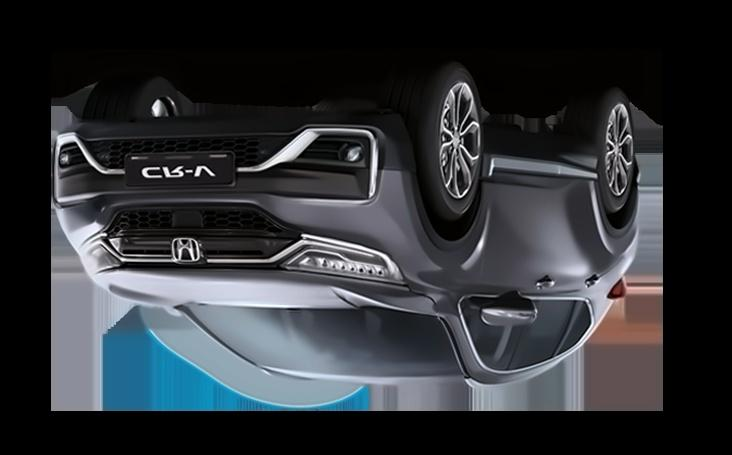Car hood: (89, 267, 442, 318)
Driver-s door - -F-R-: (449, 129, 571, 389)
Fender - -F-R-: (397, 152, 489, 320)
Fender - -R-R-: (578, 161, 644, 320)
Front bumper: (54, 121, 413, 213)
Headlight - -L-: (79, 240, 124, 278)
Headlight - -R-: (275, 234, 411, 291)
Passenger-s door - -R-R-: (502, 125, 609, 388)
Rear light - -R-: (600, 274, 628, 301)
Side bumper - -R-: (477, 137, 604, 209)
